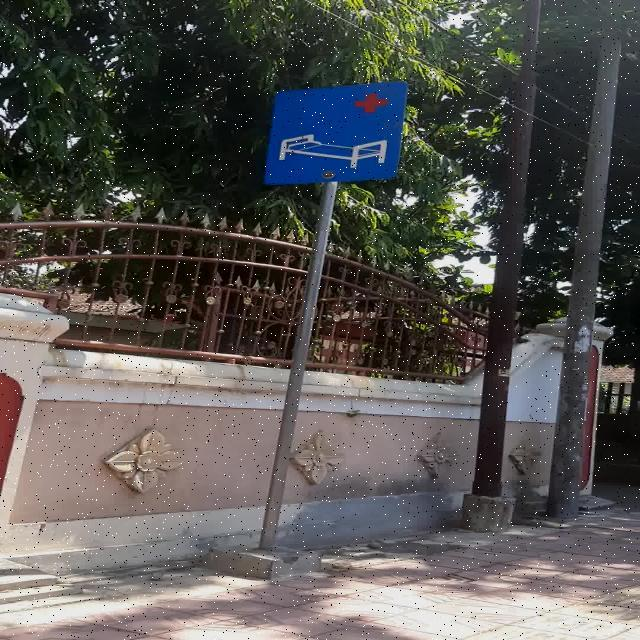Rumah Sakit: (264, 81, 408, 184)
